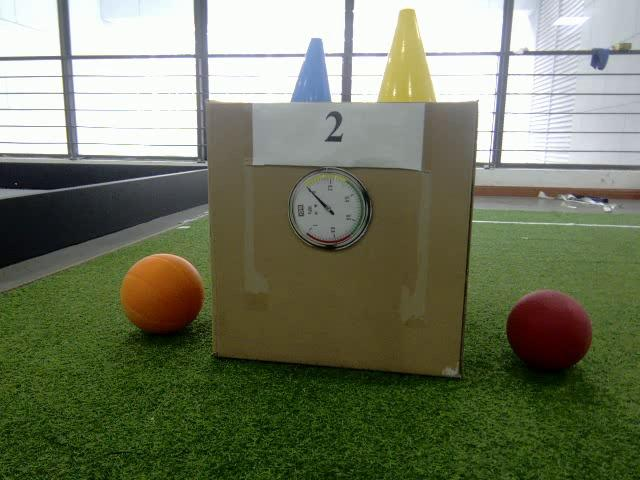2: (324, 110, 344, 142)
Dashboard: (289, 169, 370, 250)
blue_barrel: (290, 36, 333, 103)
orange_ball: (118, 254, 205, 332)
red_ball: (504, 288, 594, 372)
ssi: (298, 205, 304, 216)
yellow_barrel: (380, 12, 438, 104)
